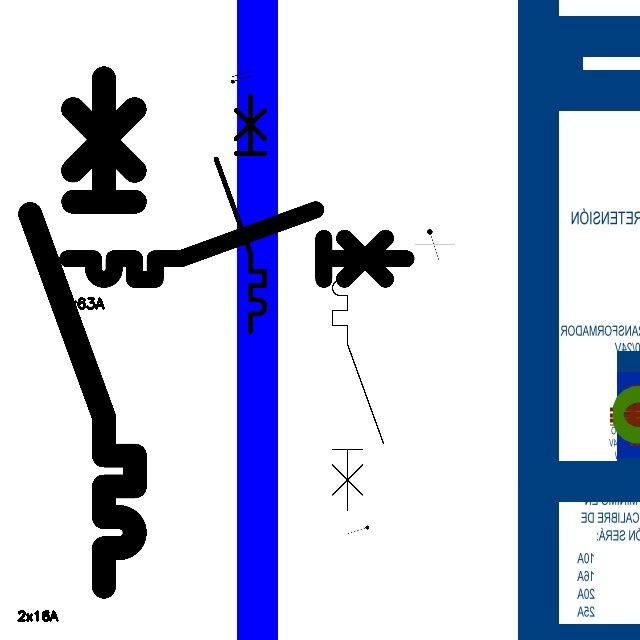interruptor_termomagnetico: (17, 65, 148, 600), (59, 201, 415, 288), (326, 255, 390, 516), (210, 90, 271, 338)
